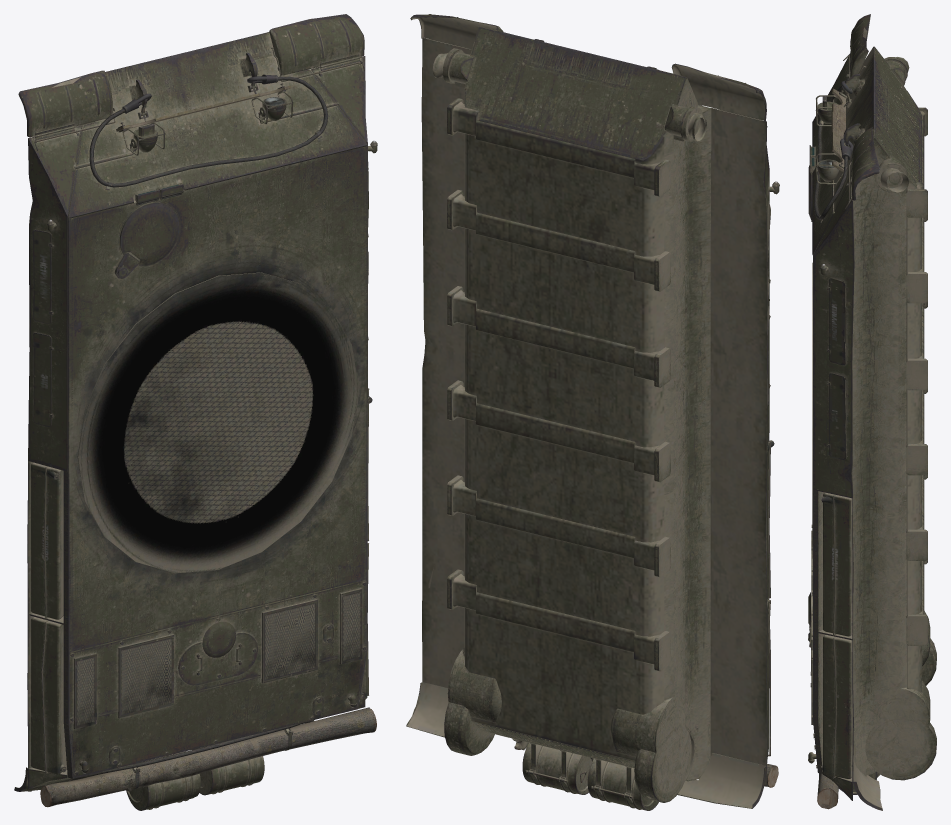
Rendered from Hull.glb.
3 renders of one model, left to right at view 1: azimuth 30°, elevation 25°; view 2: azimuth 150°, elevation 25°; view 3: azimuth 270°, elevation 25°, orthographic. The views are drawn at different scales.
Visible parts, largest first — view 1: set_0_group_0; view 2: set_0_group_0; view 3: set_0_group_0.
Part boxes in pixels (bbox=[...]): set_0_group_0: bbox=[14, 14, 377, 810]; set_0_group_0: bbox=[406, 14, 779, 810]; set_0_group_0: bbox=[808, 14, 936, 810].
Bounding box in the file's own units: 3.1 × 6.52 × 1.11.
1 material, 1 textured.
